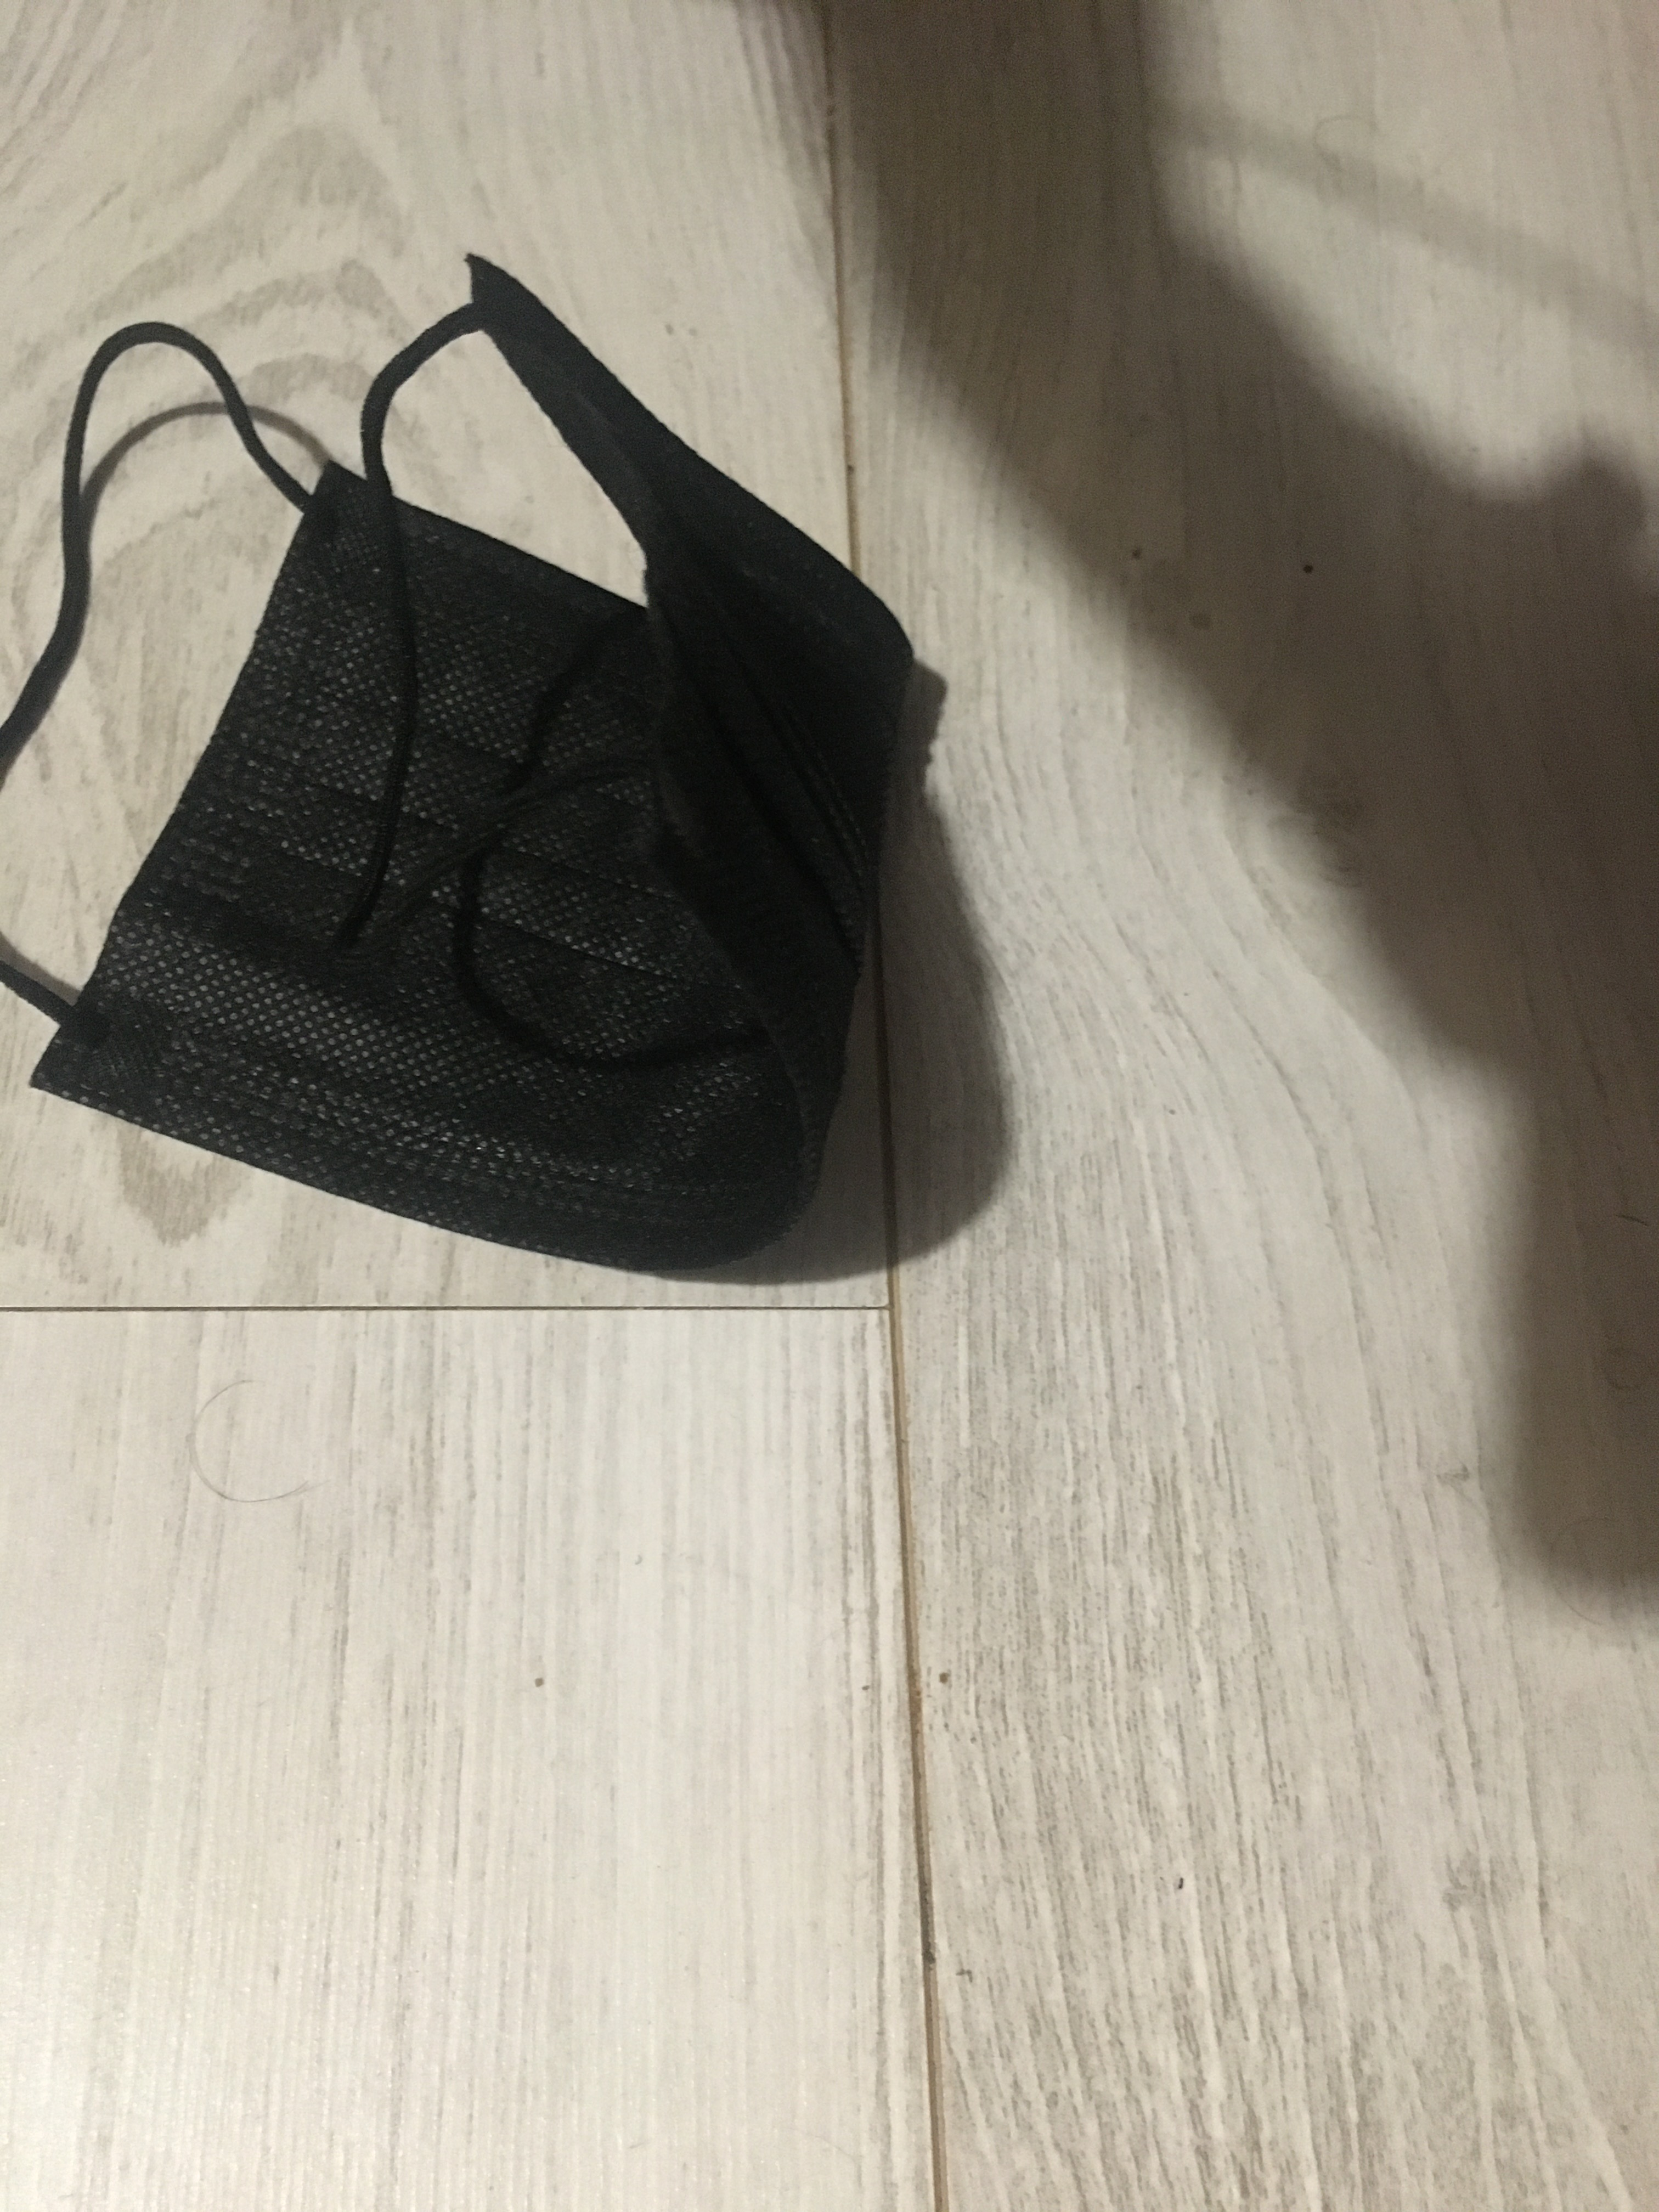trash: (2, 253, 941, 1277)
